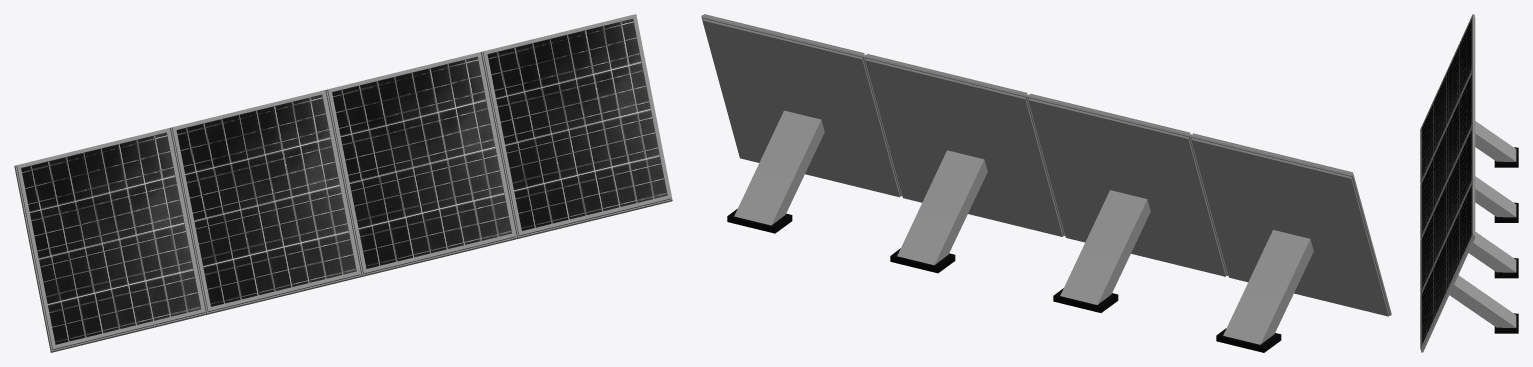
Rendered from groundPanel.glb.
3 views of the same model, side by side, from view 1: azimuth 30°, elevation 25°; view 2: azimuth 150°, elevation 25°; view 3: azimuth 270°, elevation 25° (orthographic). The views are drawn at different scales.
Visible parts, largest first — view 1: objSolar.001, objSolar.002, objSolar.004, objSolar.003; view 2: objSolar.001, objSolar.003, objSolar.004, objSolar.002; view 3: objSolar.004, objSolar.003, objSolar.001, objSolar.002.
Part boxes in pixels (x1,y1,x2,y2): objSolar.001: (14, 128, 206, 352); objSolar.002: (170, 90, 361, 314); objSolar.004: (481, 14, 672, 238); objSolar.003: (325, 52, 516, 276); objSolar.001: (1190, 133, 1391, 352); objSolar.003: (864, 54, 1065, 273); objSolar.004: (701, 14, 902, 233); objSolar.002: (1027, 93, 1228, 312); objSolar.004: (1420, 180, 1518, 352); objSolar.003: (1420, 125, 1518, 294); objSolar.001: (1420, 14, 1518, 183); objSolar.002: (1420, 69, 1518, 238).
Bounding box in the file's own units: 8 × 2 × 1.5.
Materials: 12 (4 with a texture image).
